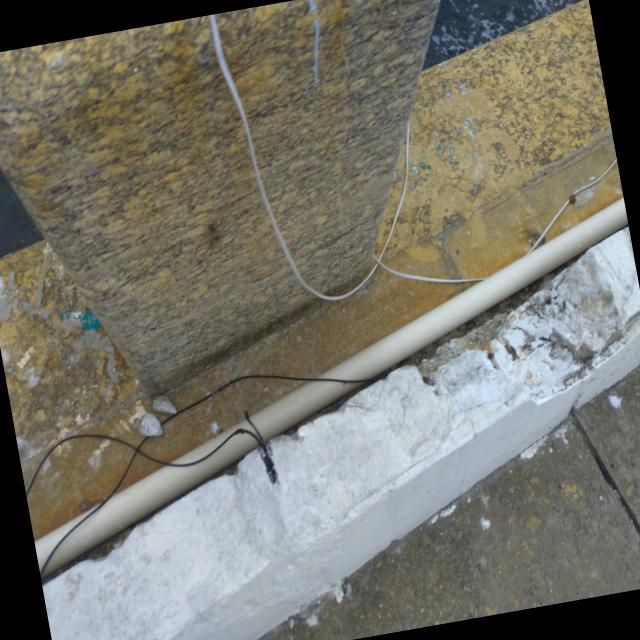gas: (34, 196, 628, 579)
